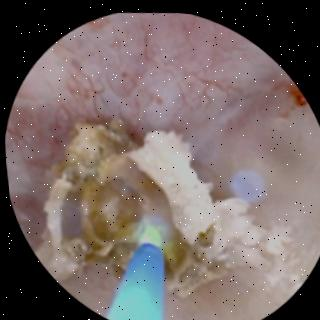fiber: (106, 242, 160, 320)
laser: (139, 222, 159, 240)
stone: (36, 115, 288, 295)
tissue: (6, 12, 320, 320)
